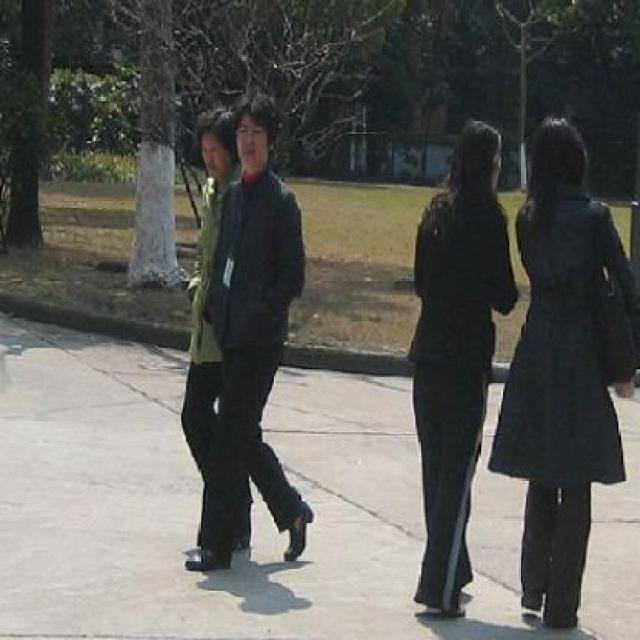Person: (518, 109, 639, 633), (404, 112, 518, 625), (233, 93, 318, 561), (174, 97, 234, 578)
